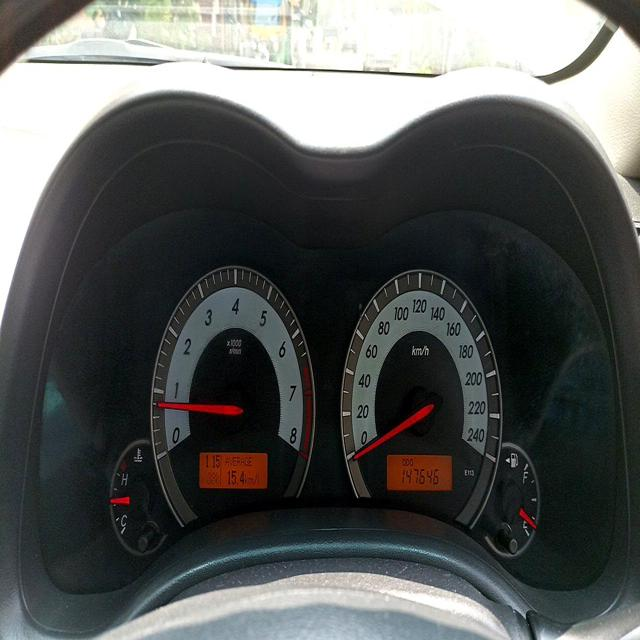odometer: (401, 463, 439, 487)
